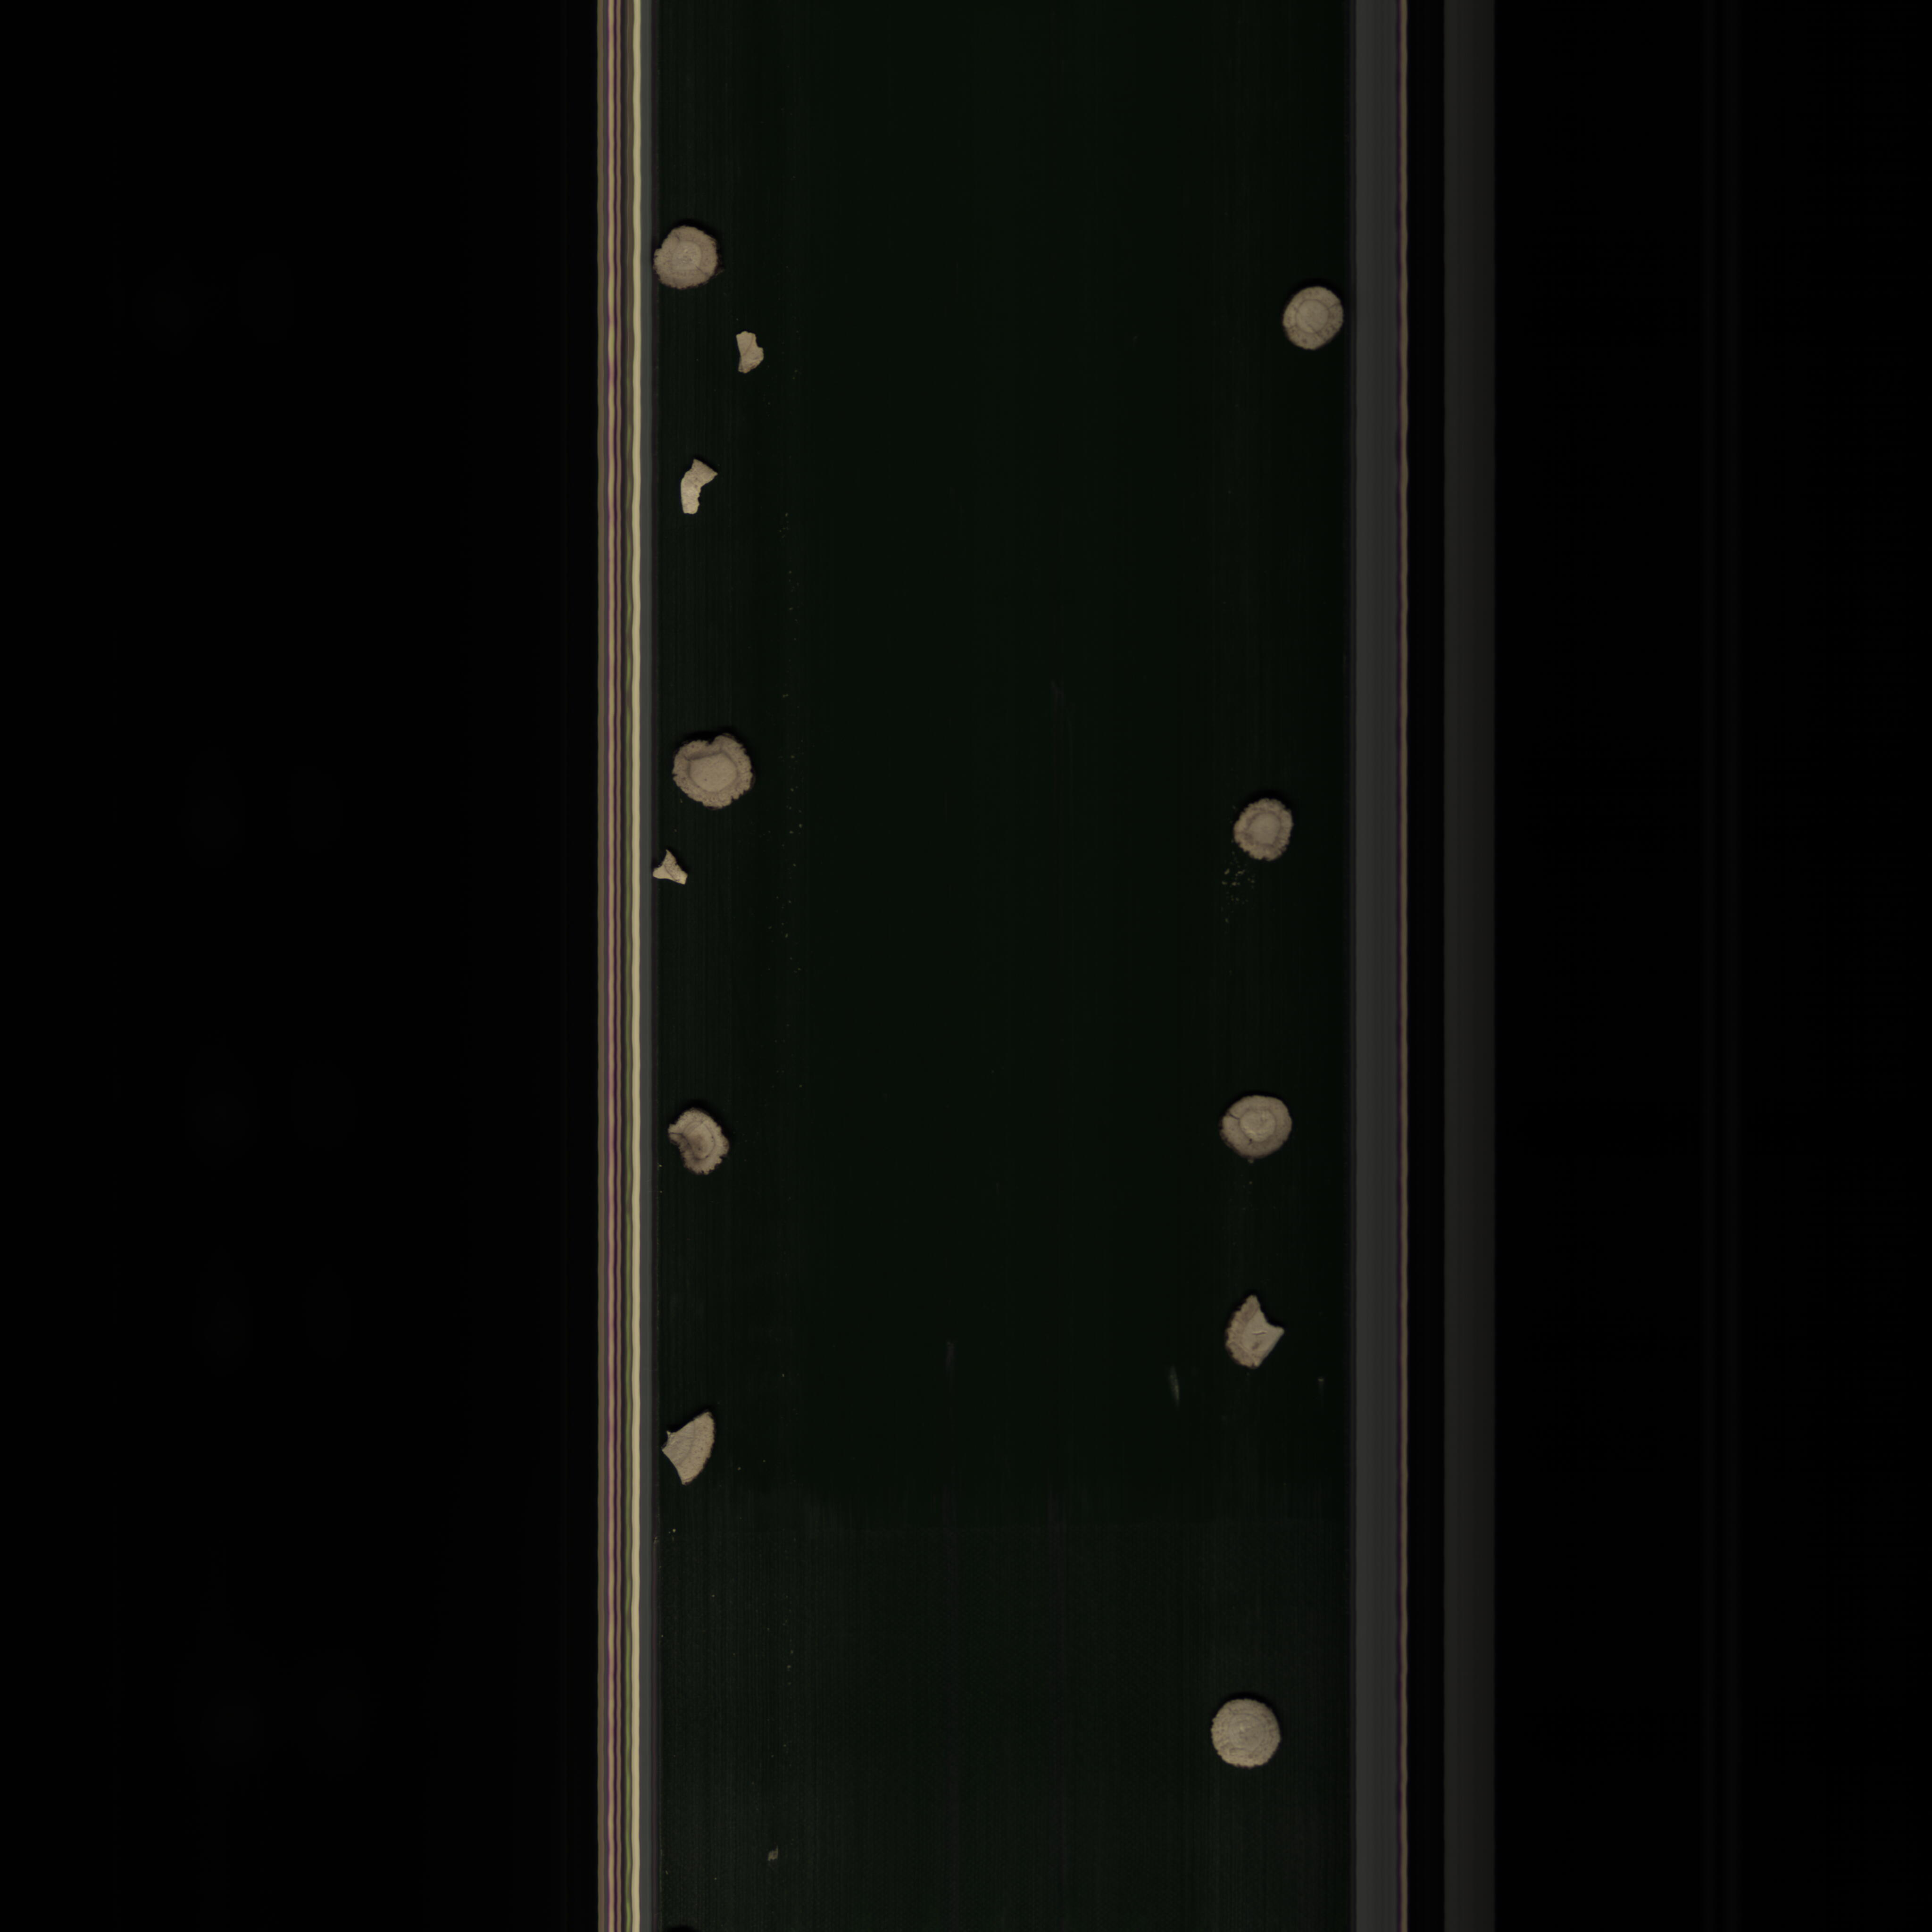debris: (1221, 1292, 1290, 1376), (656, 1408, 724, 1490), (674, 449, 729, 520), (731, 326, 773, 382), (646, 846, 694, 893)
moldy: (663, 1104, 731, 1184)
